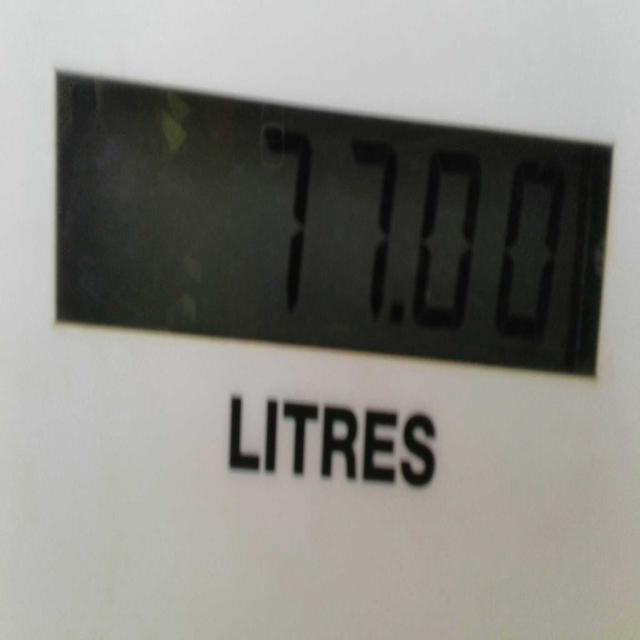.: (379, 282, 406, 351)
0: (407, 146, 493, 346), (498, 146, 554, 365)
7: (254, 116, 334, 320), (332, 116, 396, 325)
